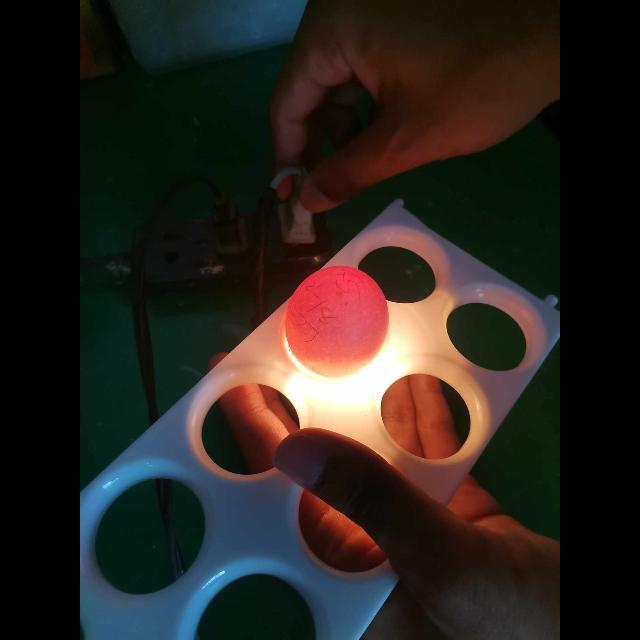Infertile: (287, 262, 387, 376)
